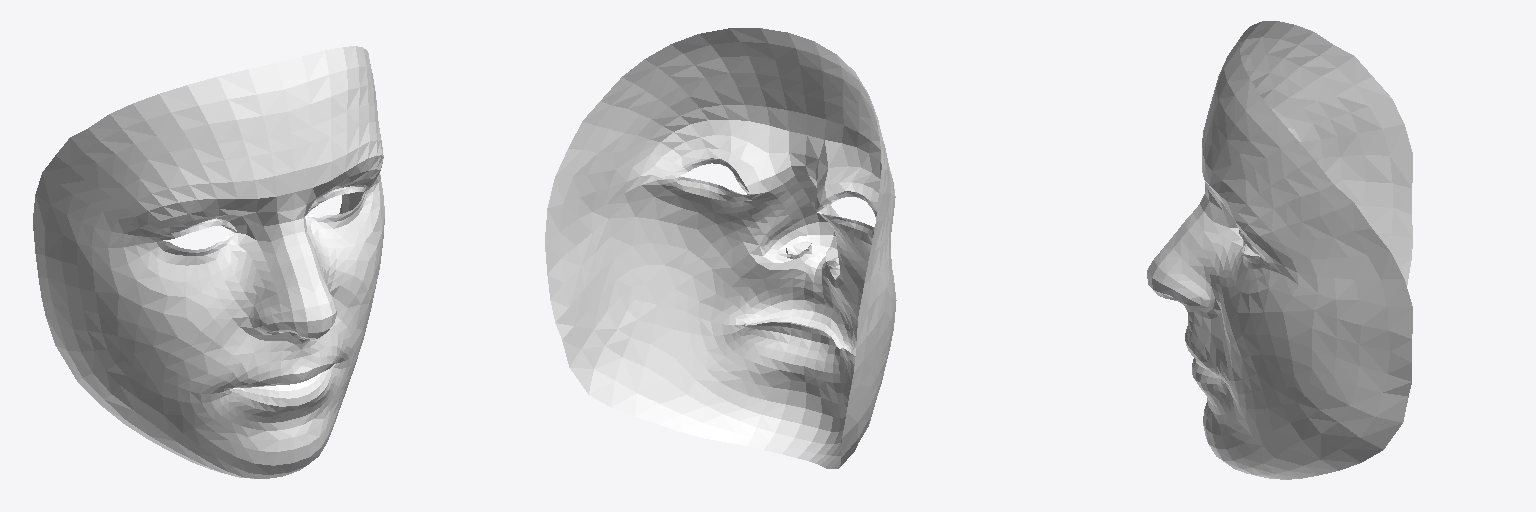
The model's file is cheekSquint_L.obj.
3 renders of one model, left to right at view 1: azimuth 30°, elevation 25°; view 2: azimuth 150°, elevation 25°; view 3: azimuth 270°, elevation 25°, orthographic.
Parts seen in each view (by area): view 1: default; view 2: default; view 3: default.
Part boxes in pixels (x1,y1,x2,y2): default: (33,46,384,478); default: (545,28,896,468); default: (1147,21,1412,479).
Bounding box in the file's own units: 0.1447 × 0.182 × 0.1055.